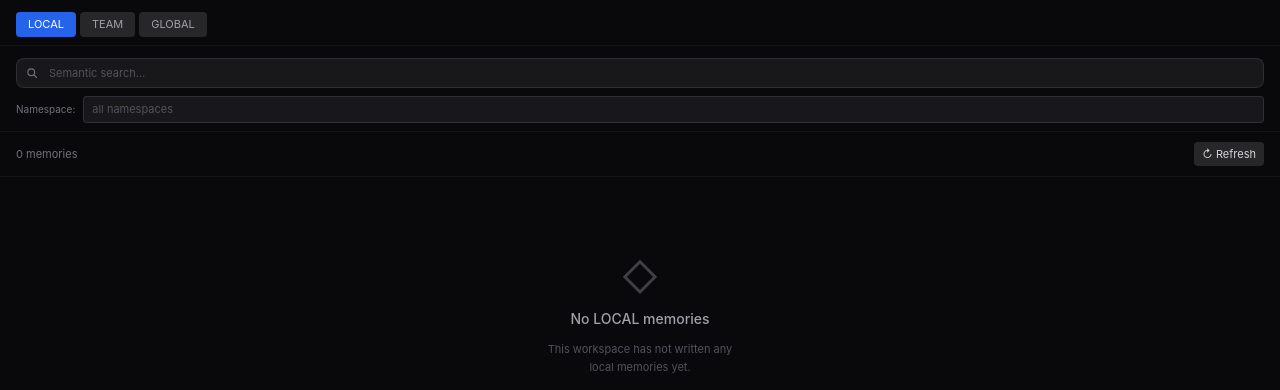
Test: MemoryInspectorPanel — scope tabs › shows scope-specific empty state when switching tabs
The width and height of the screenshot is (1280, 390).
Click the button "TEAM" at (108, 24), box [80,12,135,36]
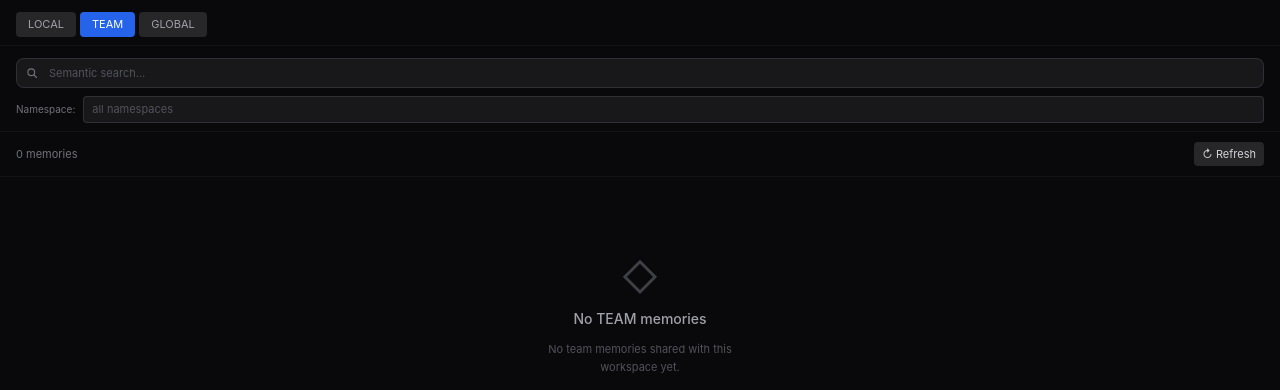
Check: the text "No TEAM memories" is shown, box [573,309,707,329]
